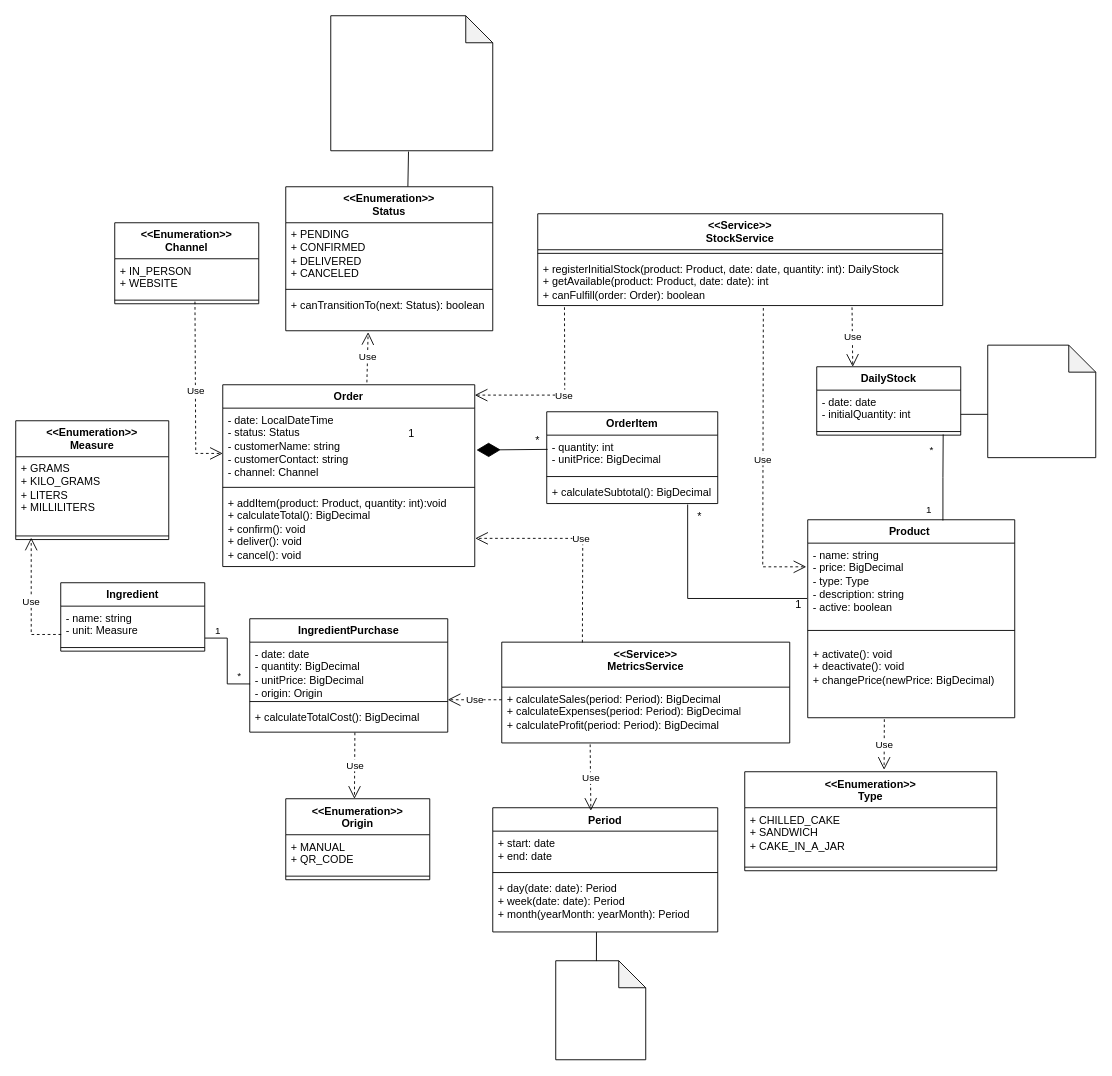
Image size: 1112x1076. Some labels were removed from this diagram. The centre of each missing label's shape, as x and y in pixels:
"Count as a sale: CONFIRMED and DELIVERED" belongs at pixel 411 83.
"Only one record per product and date is allowed." belongs at pixel 1041 401.
"The week starts on Monday." belongs at pixel 600 1010.
